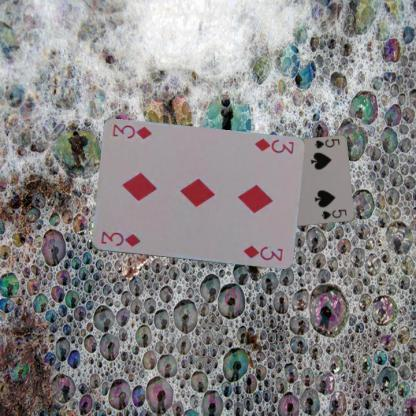3d: (97, 228, 141, 249), (252, 136, 295, 156)
5s: (311, 136, 341, 150)
